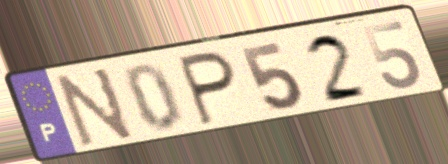0: (124, 61, 187, 135)
2: (303, 32, 371, 103)
5: (237, 39, 307, 114), (359, 18, 423, 91)
N: (54, 65, 138, 151)
P: (174, 48, 239, 129)
